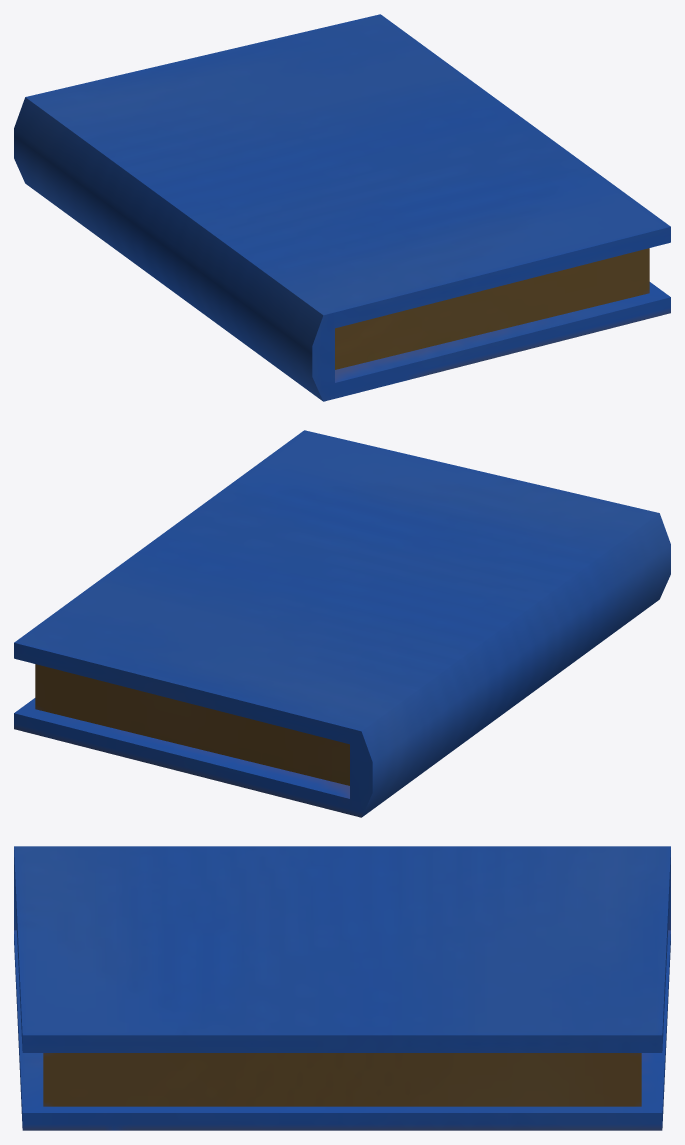
Rendered from BlueBook.fbx.
3 views of the same model, one above another, from view 1: azimuth 30°, elevation 25°; view 2: azimuth 150°, elevation 25°; view 3: azimuth 270°, elevation 25° (orthographic). The views are drawn at different scales.
Parts seen in each view (by area): view 1: BlueBook; view 2: BlueBook; view 3: BlueBook.
Part boxes in pixels (x1,y1,x2,y2): BlueBook: (14, 14, 670, 401); BlueBook: (14, 430, 670, 817); BlueBook: (14, 846, 670, 1130).
Bounding box in the file's own units: 214 × 48.61 × 304.
1 material, 1 textured.
